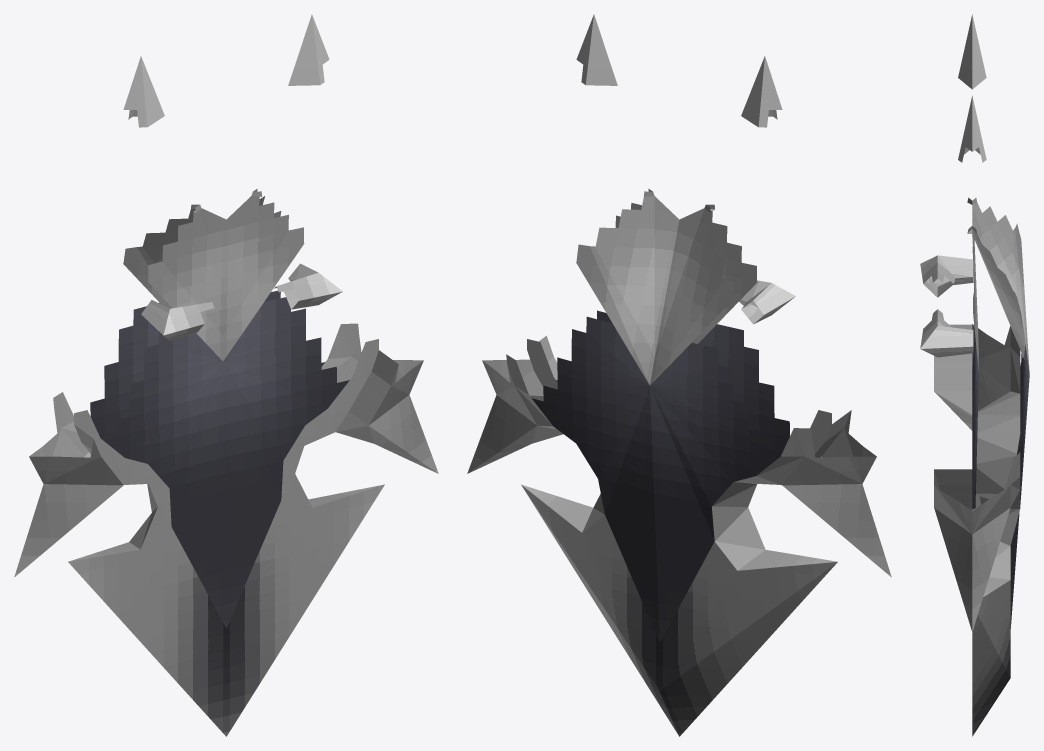
Rendered from testerzero.obj.
The picture shows the model from 3 angles, left to right: view 1: azimuth 30°, elevation 25°; view 2: azimuth 150°, elevation 25°; view 3: azimuth 270°, elevation 25°; orthographic projection. The views are drawn at different scales.
Size of the model in its own units: 49.81 by 78.67 by 11.44.
